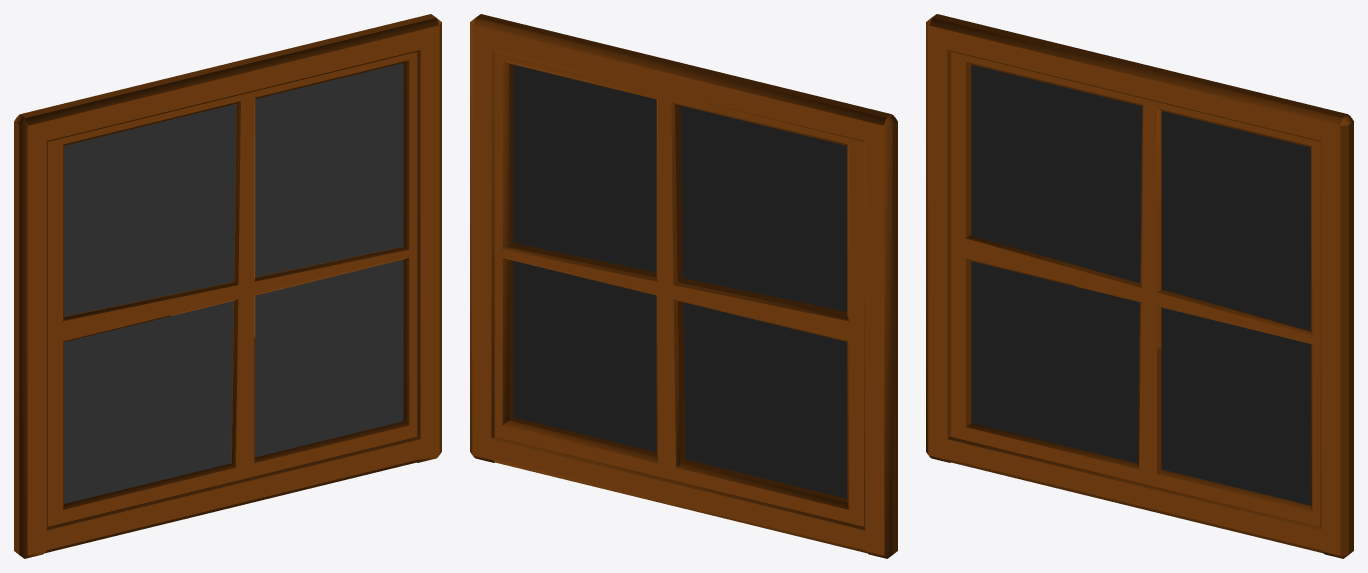
3 views of the same model, side by side, from view 1: azimuth 30°, elevation 25°; view 2: azimuth 150°, elevation 25°; view 3: azimuth 330°, elevation 25° (orthographic).
Parts seen in each view (by area): view 1: transform207; view 2: transform207; view 3: transform207.
Boxes of the visible parts, x1,y1,x2,y2 form: transform207: (14,14,441,558); transform207: (470,14,897,558); transform207: (926,14,1353,558).
Bounding box in the file's own units: 152 × 152 × 7.08.
